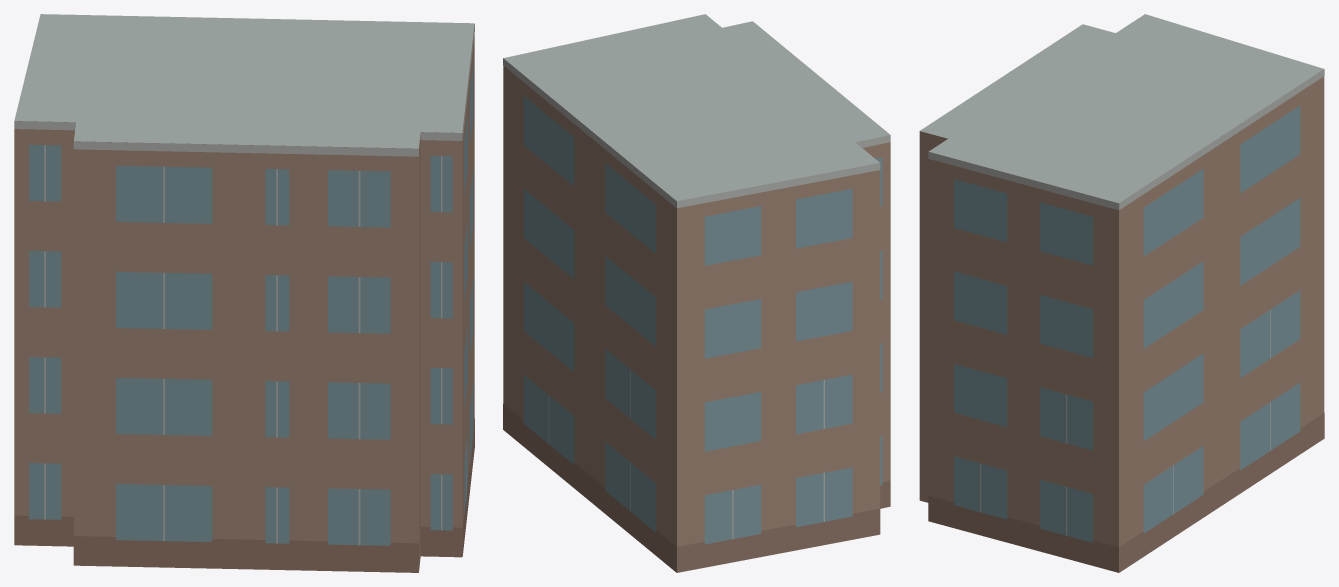
File: survey-upis-32675448.glb
3 renders of one model, left to right at view 1: azimuth 30°, elevation 25°; view 2: azimuth 150°, elevation 25°; view 3: azimuth 270°, elevation 25°, orthographic. The views are drawn at different scales.
Parts seen in each view (by area): view 1: survey-upis-32675448.tmp; view 2: survey-upis-32675448.tmp; view 3: survey-upis-32675448.tmp.
Part boxes in pixels (x1=…): survey-upis-32675448.tmp: x1=14, y1=14, x2=474, y2=572; survey-upis-32675448.tmp: x1=503, y1=14, x2=890, y2=572; survey-upis-32675448.tmp: x1=919, y1=14, x2=1324, y2=572.
Size of the model in its own units: 14.07 by 12.8 by 12.72.
